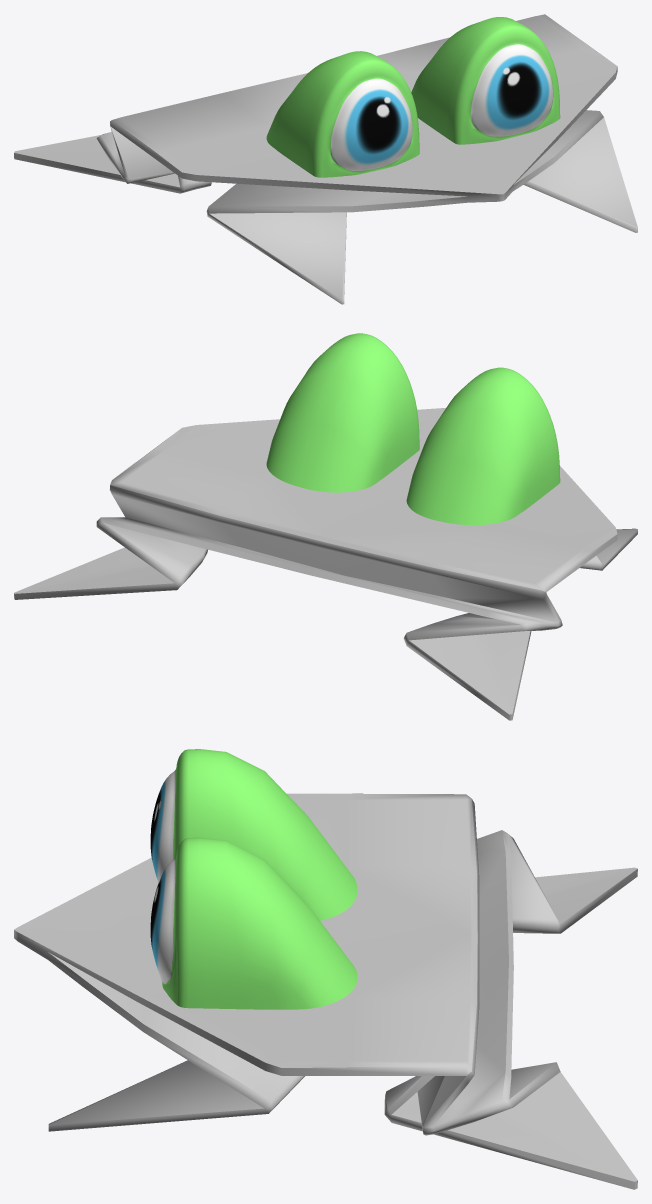
File: jab.obj
The picture shows the model from 3 angles, top to bottom: view 1: azimuth 30°, elevation 25°; view 2: azimuth 150°, elevation 25°; view 3: azimuth 270°, elevation 25°; orthographic projection. The views are drawn at different scales.
Parts seen in each view (by area): view 1: Cylinder.002_Cylinder.001; view 2: Cylinder.002_Cylinder.001; view 3: Cylinder.002_Cylinder.001.
Part boxes in pixels (<box>): Cylinder.002_Cylinder.001: <box>14,14,637,304</box>; Cylinder.002_Cylinder.001: <box>14,333,637,720</box>; Cylinder.002_Cylinder.001: <box>14,749,637,1189</box>.
Size of the model in its own units: 3.37 by 1.2 by 2.83.
